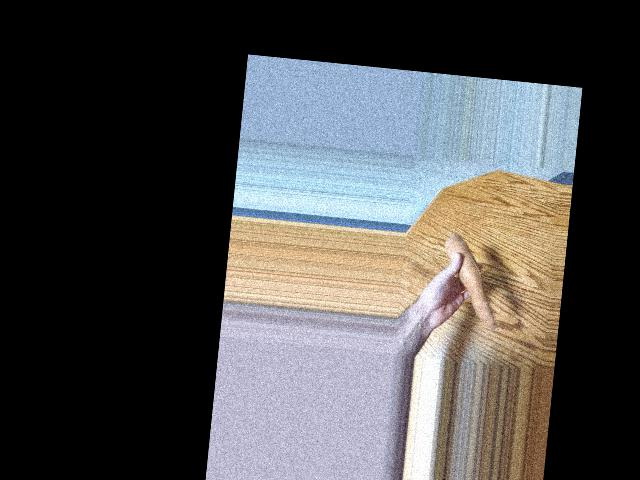sweet_potato: (440, 222, 499, 328)
